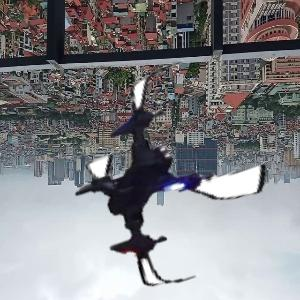drone: (60, 64, 285, 289)
